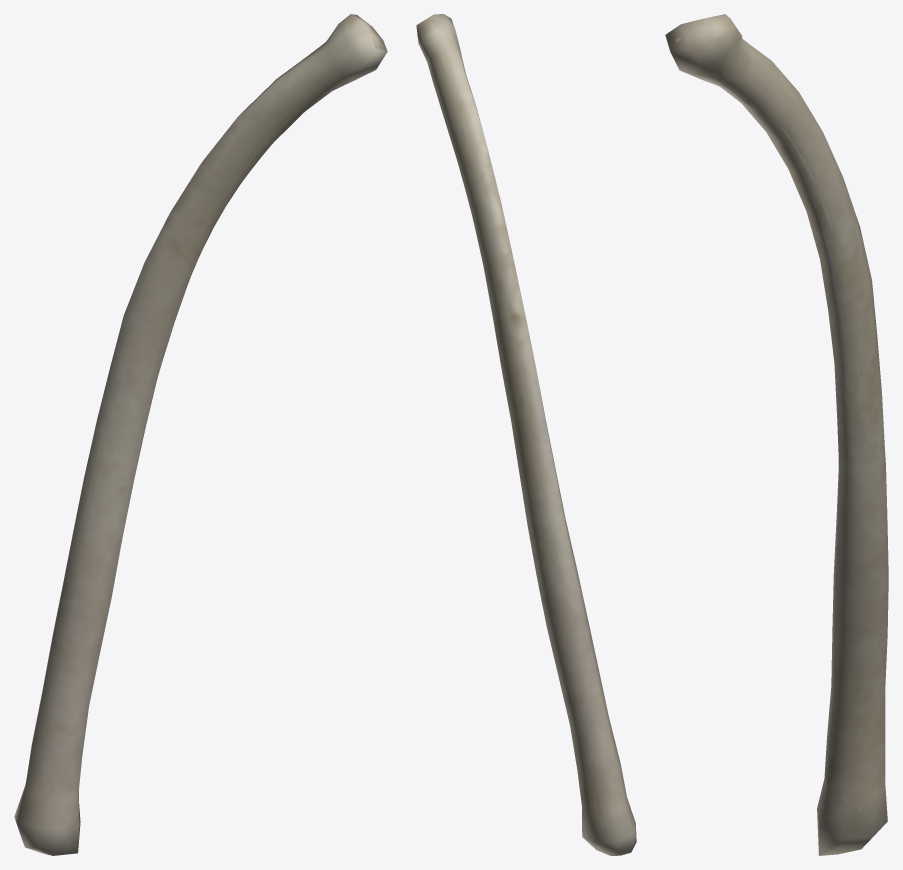
The model's file is Rib R06.fbx.
3 renders of one model, left to right at view 1: azimuth 30°, elevation 25°; view 2: azimuth 150°, elevation 25°; view 3: azimuth 270°, elevation 25°, orthographic. The views are drawn at different scales.
Parts seen in each view (by area): view 1: Rib R06 low, Rib R06; view 2: Rib R06 low, Rib R06; view 3: Rib R06 low, Rib R06.
Boxes of the visible parts, bbox=[...] form: Rib R06 low: bbox=[14, 14, 387, 855]; Rib R06: bbox=[23, 28, 379, 851]; Rib R06 low: bbox=[416, 14, 636, 855]; Rib R06: bbox=[427, 37, 628, 828]; Rib R06 low: bbox=[665, 14, 888, 855]; Rib R06: bbox=[675, 31, 883, 818].
Bounding box in the file's own units: 2.54 × 6.62 × 1.37.
1 material, 1 textured.
